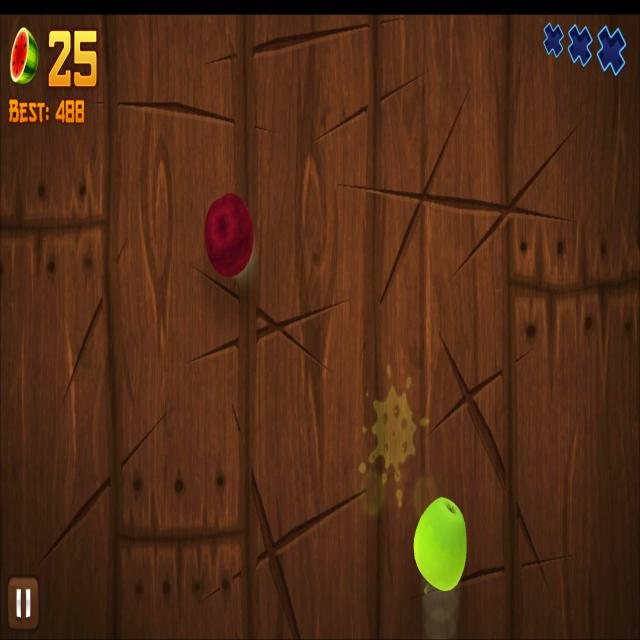fruit: (412, 495, 468, 593), (204, 191, 255, 278)
